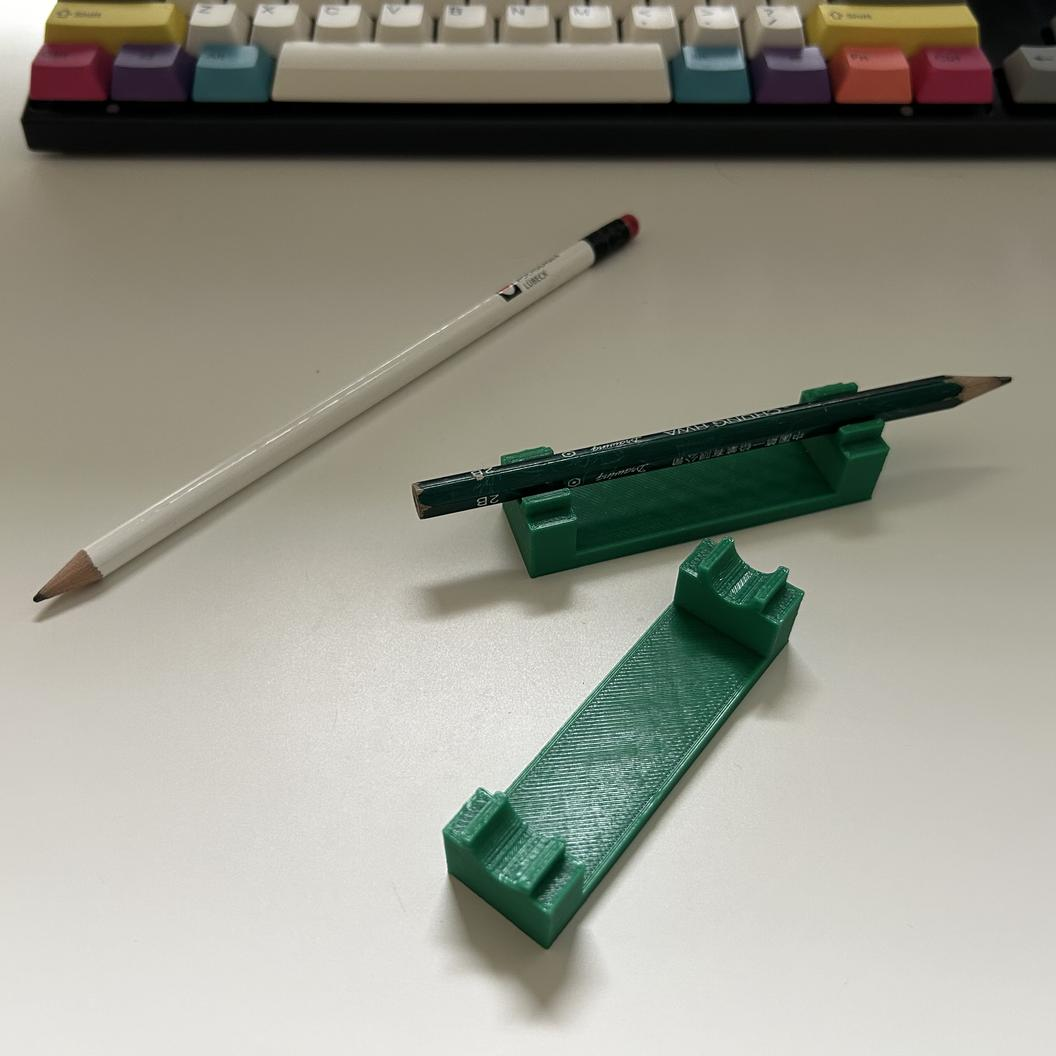X: (410, 370, 1013, 580)
holder: (442, 537, 805, 949), (499, 379, 889, 580)
pencil: (32, 212, 642, 604), (411, 370, 1013, 519)
